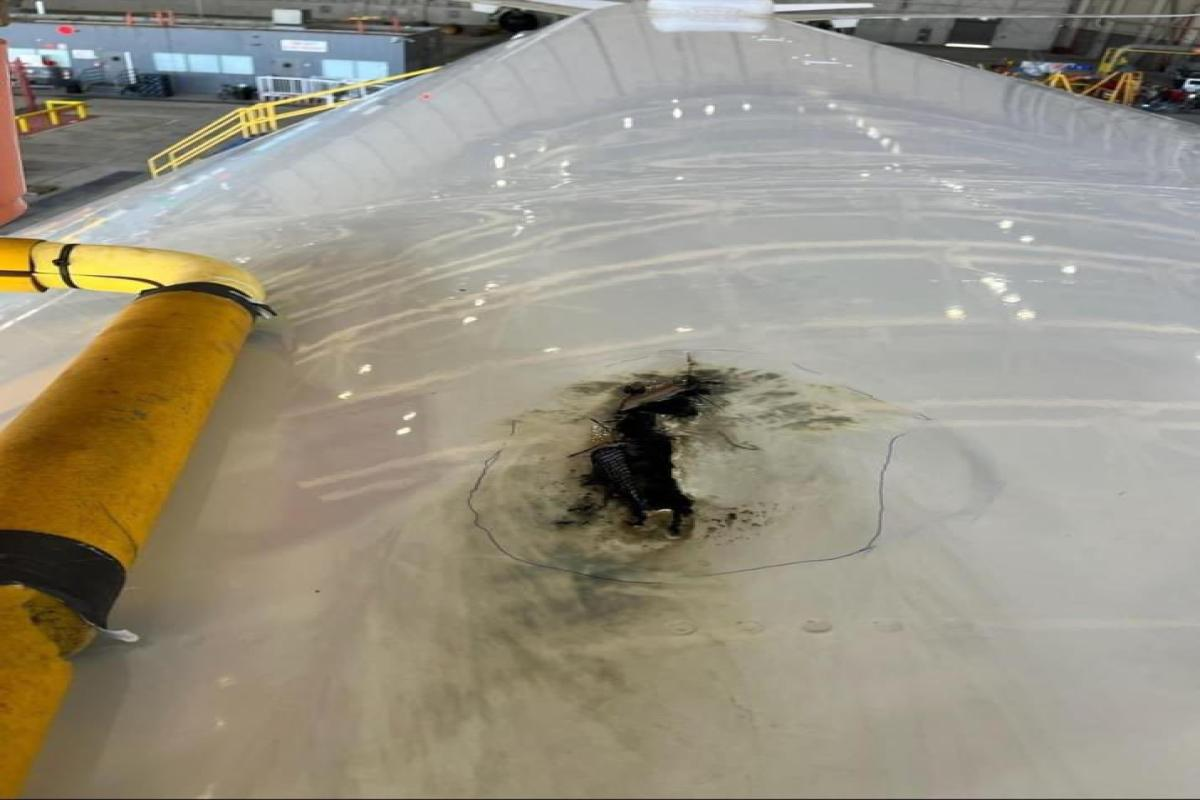Fuselage_damage: (463, 340, 961, 582)
